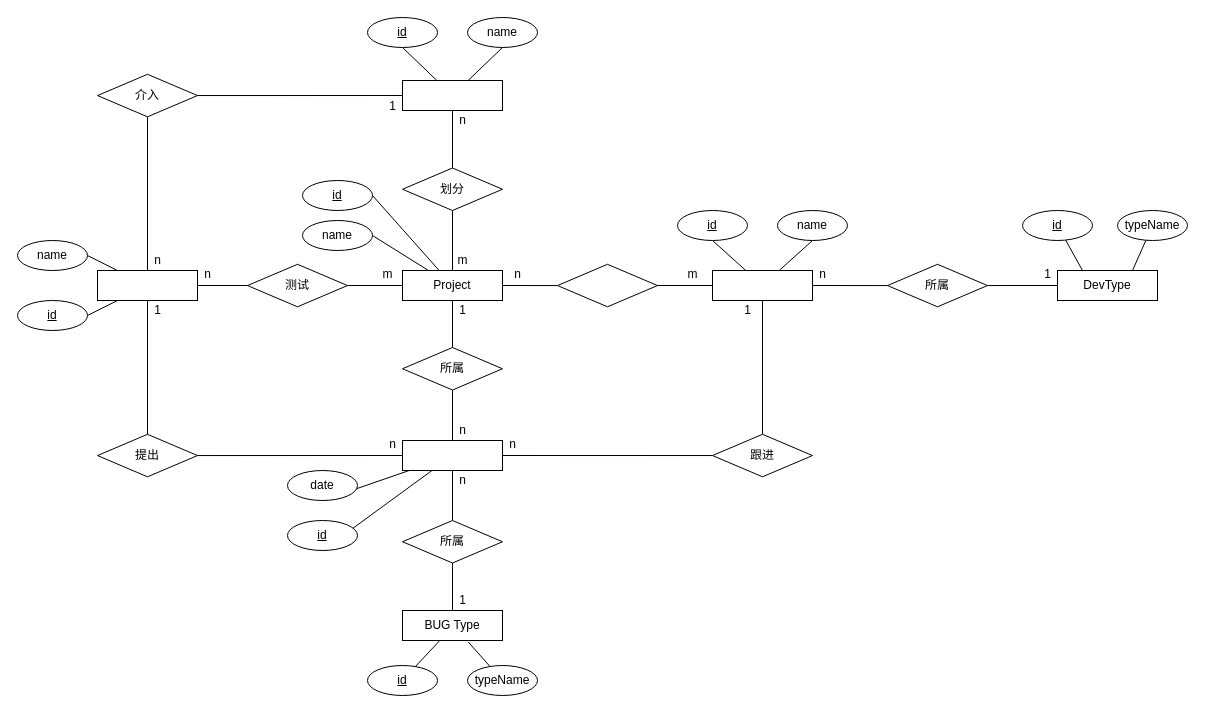
Image size: 1205x713. Some labels were removed from this diagram. The shapes that lost their labels are listed below. From the top down, each one's centre as x and y in pixels, then its label:
At [452,95]: "TestNum".
At [147,285]: "QA".
At [607,285]: "开发".
At [762,285]: "Dev".
At [452,455]: "BUG".
